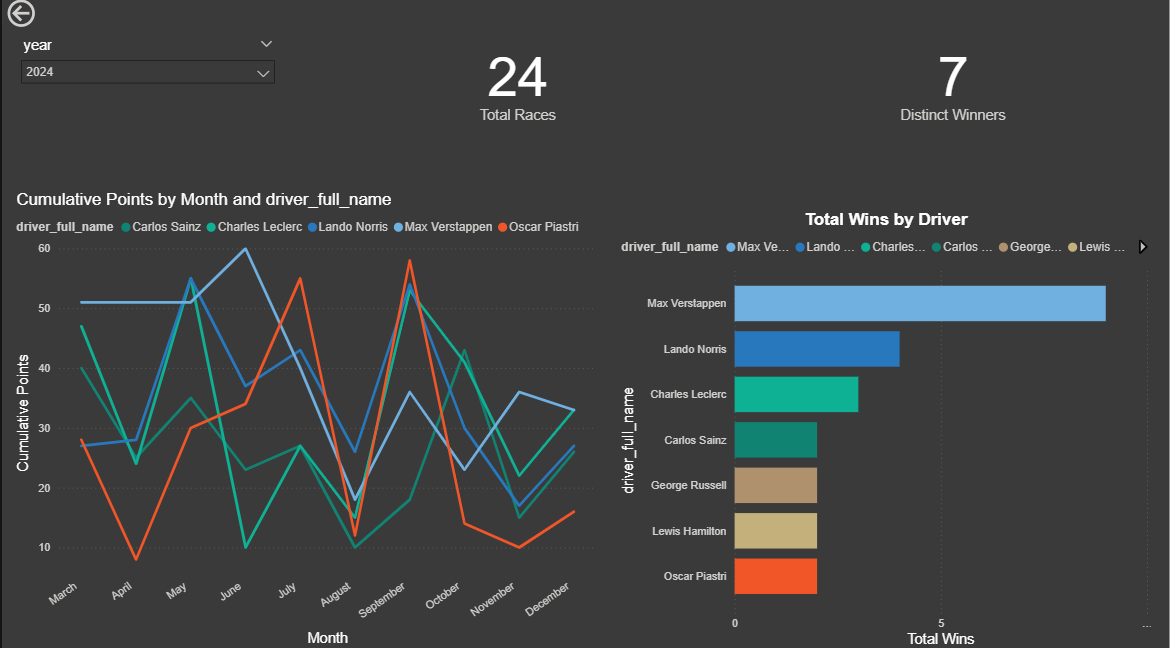

This screenshot's page, from the dashboard's own definition file:
{"tool":"powerbi","page":{"name":"Season Review","canvas":[1280,720],"ordinal":1},"visuals":[{"type":"slicer","fields":{"Values":["f1_master_data.year"]},"box":[10.1,40.6,298.6,147.8],"z":0},{"type":"lineChart","fields":{"Category":["f1_master_data.date.Variation.Date Hierarchy.Month"],"Y":["f1_master_data.Cumulative Points"],"Series":["f1_master_data.driver_full_name"]},"box":[10.1,214.5,646.4,505.8],"z":1000},{"type":"card","fields":{"Values":["Count(f1_master_data.race_name)"]},"box":[333.3,0,463.8,188.4],"z":2000},{"type":"card","fields":{"Values":["Count(f1_master_data.driver_full_name)"]},"box":[807.2,0,472.5,188.4],"z":3000},{"type":"actionButton","box":[0,0,100,40],"z":4000},{"type":"barChart","title":"Total Wins by Driver","fields":{"Category":["f1_master_data.driver_full_name"],"Y":["f1_master_data.Total Wins"],"Series":["f1_master_data.driver_full_name"]},"box":[673.9,236.2,591.3,484.1],"z":5000}]}

Visuals, with their boxes in screenshot pixels (x1, y1, x2, y2), scaled from the page's 1280x720 canvas onto the 1170x648 screenshot:
slicer - f1_master_data.year: x1=9 y1=37 x2=282 y2=170
lineChart - f1_master_data.date.Variation.Date Hierarchy.Month x f1_master_data.Cumulative Points: x1=9 y1=193 x2=600 y2=647
card - Count(f1_master_data.race_name): x1=305 y1=0 x2=729 y2=170
card - Count(f1_master_data.driver_full_name): x1=738 y1=0 x2=1169 y2=170
actionButton: x1=0 y1=0 x2=91 y2=36
"Total Wins by Driver" barChart: x1=616 y1=213 x2=1156 y2=647
